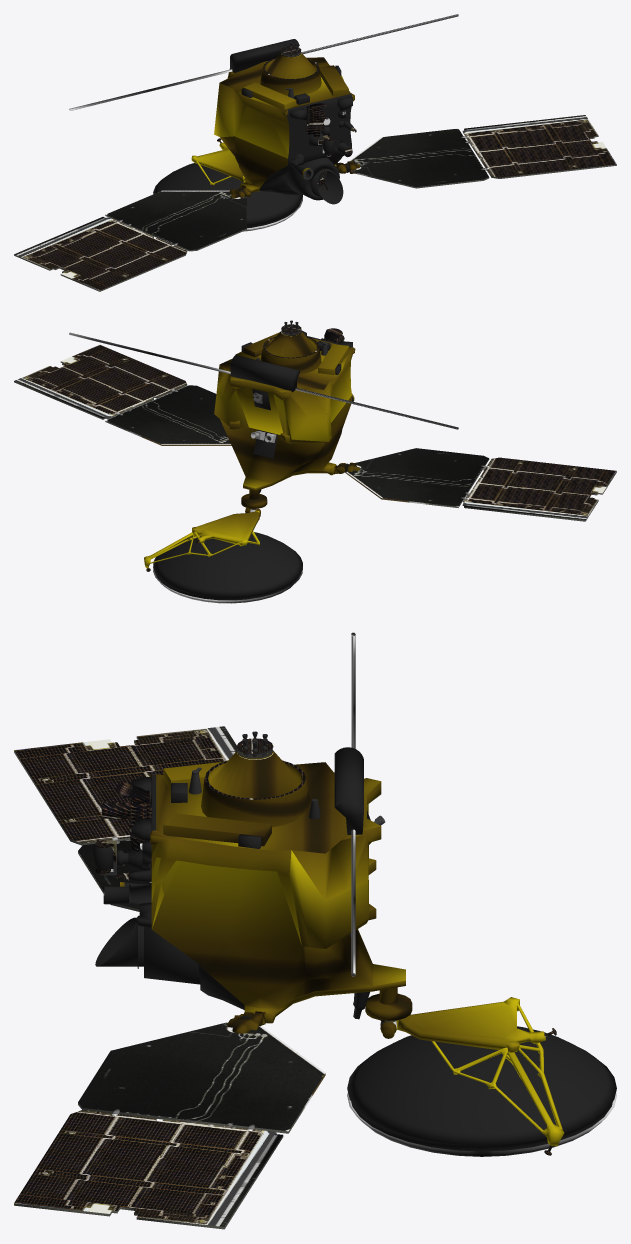
File: Sat_MRO.obj
The picture shows the model from 3 angles, top to bottom: view 1: azimuth 30°, elevation 25°; view 2: azimuth 150°, elevation 25°; view 3: azimuth 270°, elevation 25°; orthographic projection. The views are drawn at different scales.
Visible parts, largest first — view 1: tex_01, tex_02, foil_gold, black_krinkle, foil_silver; view 2: foil_gold, tex_01, tex_02, black_krinkle, foil_silver, foil_silver2; view 3: foil_gold, tex_01, black_krinkle, tex_02, foil_silver, foil_silver2.
Boxes of the visible parts, box(x1,y1,x2,y2) form: tex_01: box(14, 45, 616, 291); tex_02: box(106, 128, 488, 249); foil_gold: box(191, 52, 360, 198); black_krinkle: box(153, 39, 353, 228); foil_silver: box(69, 14, 458, 193); foil_gold: box(144, 331, 360, 568); tex_01: box(14, 324, 616, 571); tex_02: box(106, 385, 488, 506); black_krinkle: box(153, 330, 352, 600); foil_silver: box(69, 320, 458, 472); foil_silver2: box(153, 567, 302, 603); foil_gold: box(120, 748, 564, 1146); tex_01: box(14, 726, 556, 1229); black_krinkle: box(93, 747, 616, 1151); tex_02: box(78, 840, 325, 1131); foil_silver: box(189, 632, 385, 1018); foil_silver2: box(347, 1092, 616, 1156).
Bounding box in the file's own units: 2 × 0.7398 × 1.02.
Materials: 7 (6 with a texture image).
